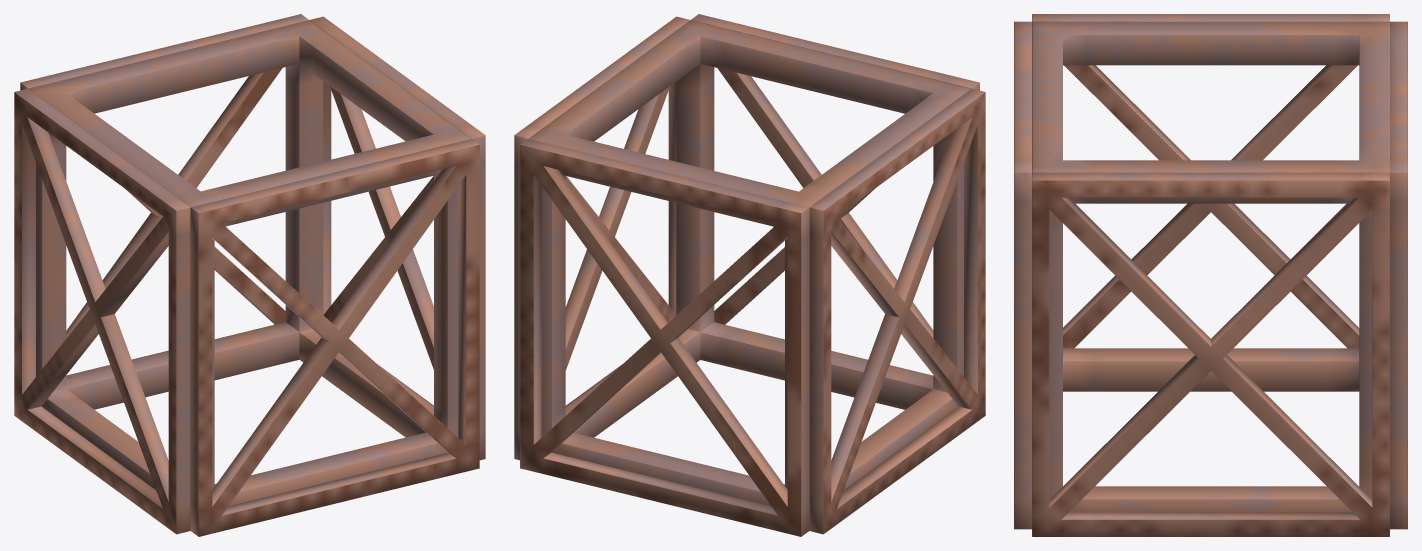
The model's file is Metal_Frame.obj.
3 renders of one model, left to right at view 1: azimuth 30°, elevation 25°; view 2: azimuth 150°, elevation 25°; view 3: azimuth 270°, elevation 25°, orthographic. The views are drawn at different scales.
Parts seen in each view (by area): view 1: metal_frame; view 2: metal_frame; view 3: metal_frame.
Boxes of the visible parts, left/top/right/bottom form: metal_frame: left=14, top=14, right=485, bottom=536; metal_frame: left=514, top=14, right=985, bottom=536; metal_frame: left=1014, top=14, right=1407, bottom=536.
Size of the model in its own units: 0.5 by 0.5004 by 0.5.
